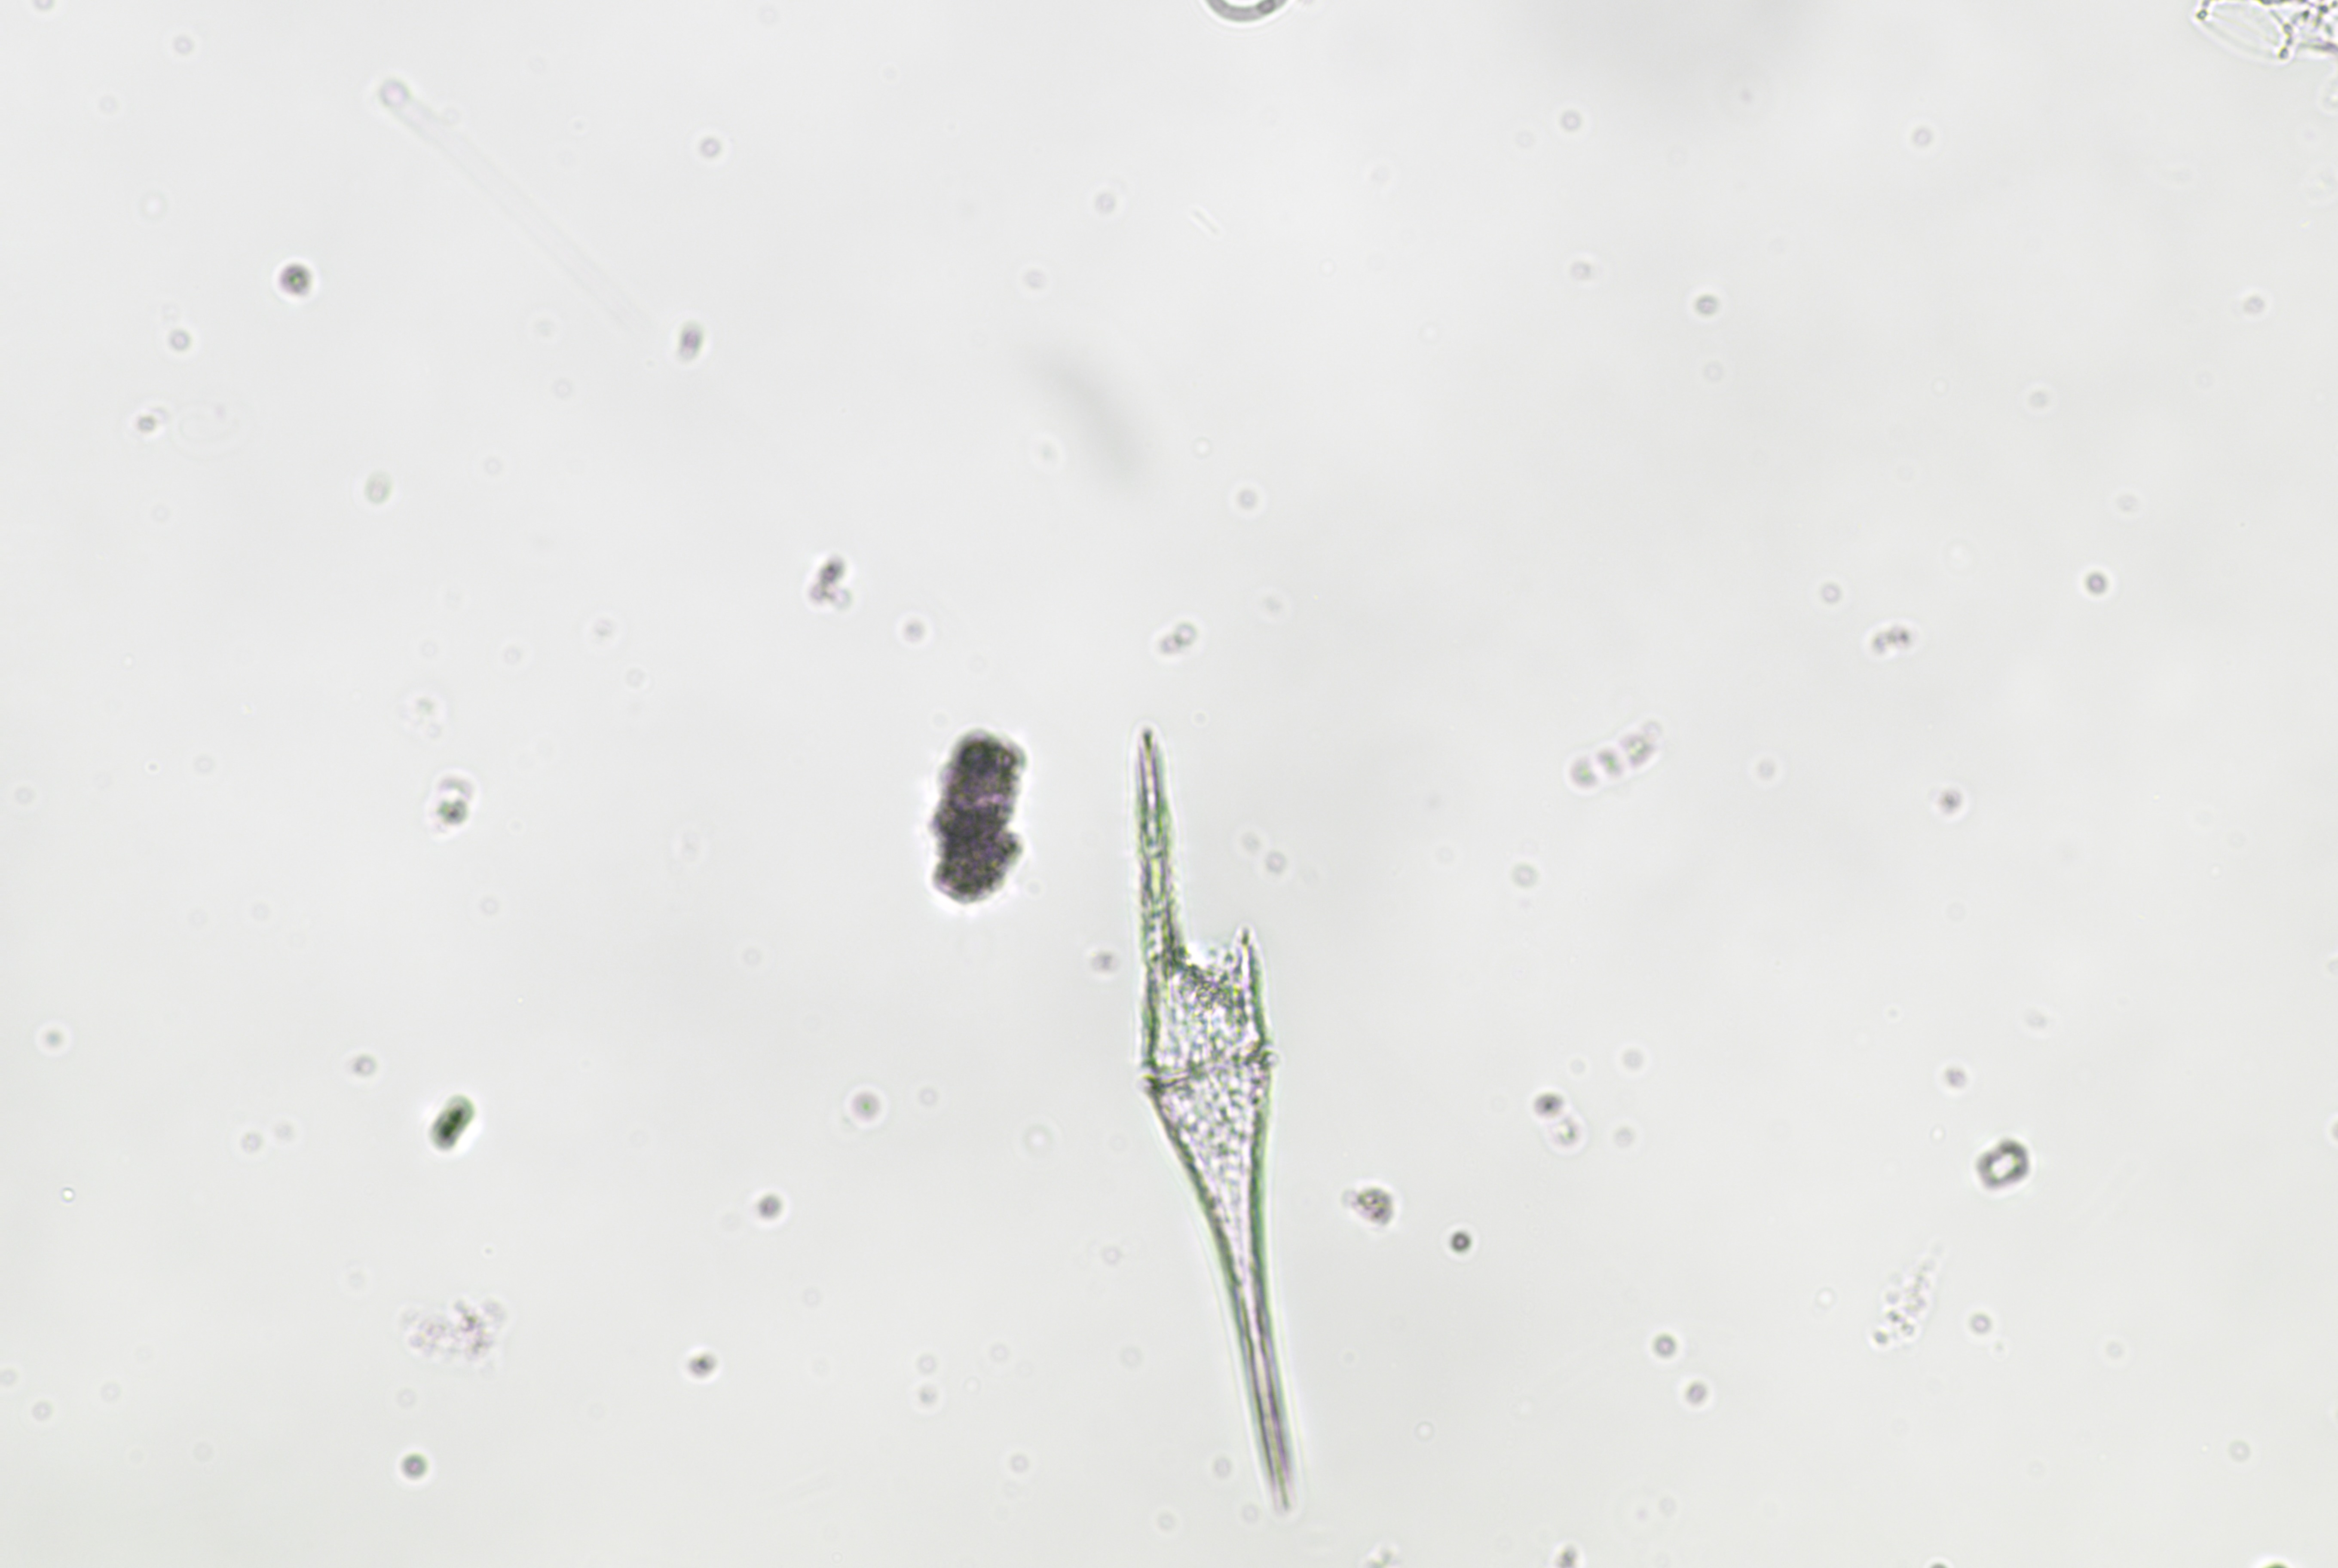ceratium furca: (1122, 721, 1342, 1521)
